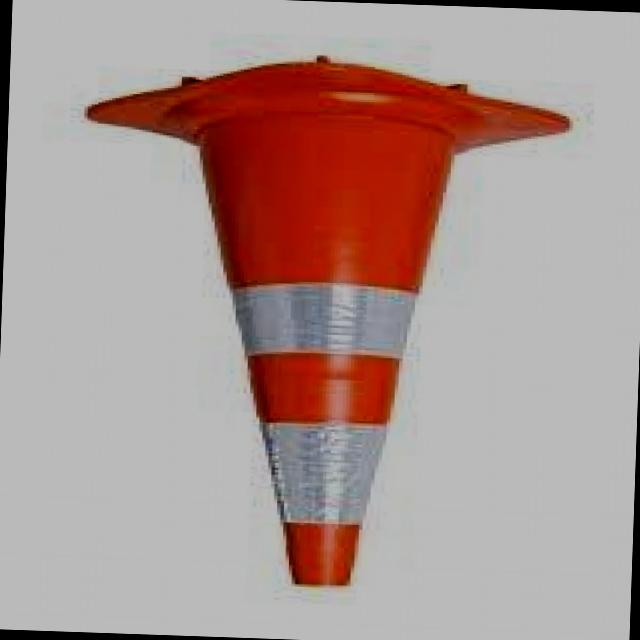cone: (157, 81, 483, 598)
